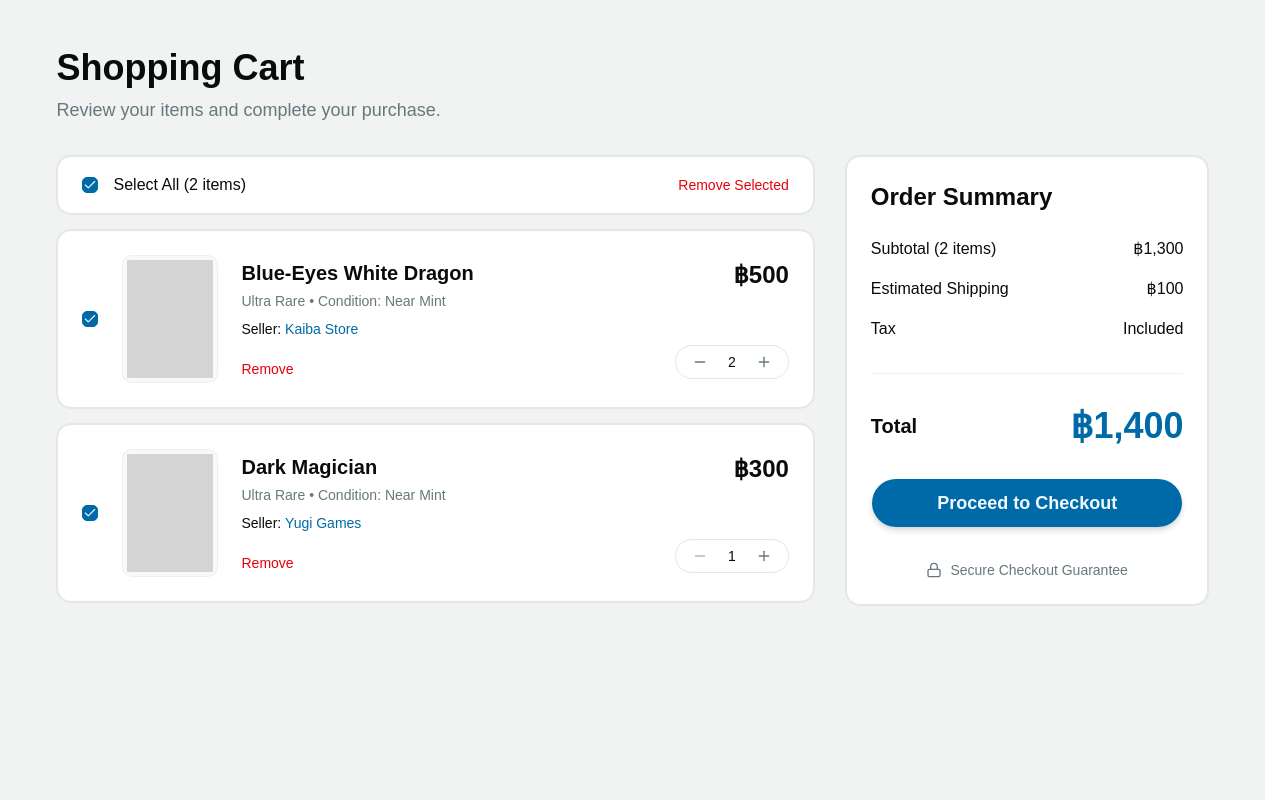
CartPage Integration Flow › removes an item when Remove button is clicked
The image size is (1280, 800).
expect the heading "Blue-Eyes White Dragon" is shown: met, box [242,262,474,284]
What coordinates should you click on to do the following:
click the button "Remove" below "Kaiba Store"
I would click on:
 (268, 369)
Its box is [242,359,294,379].
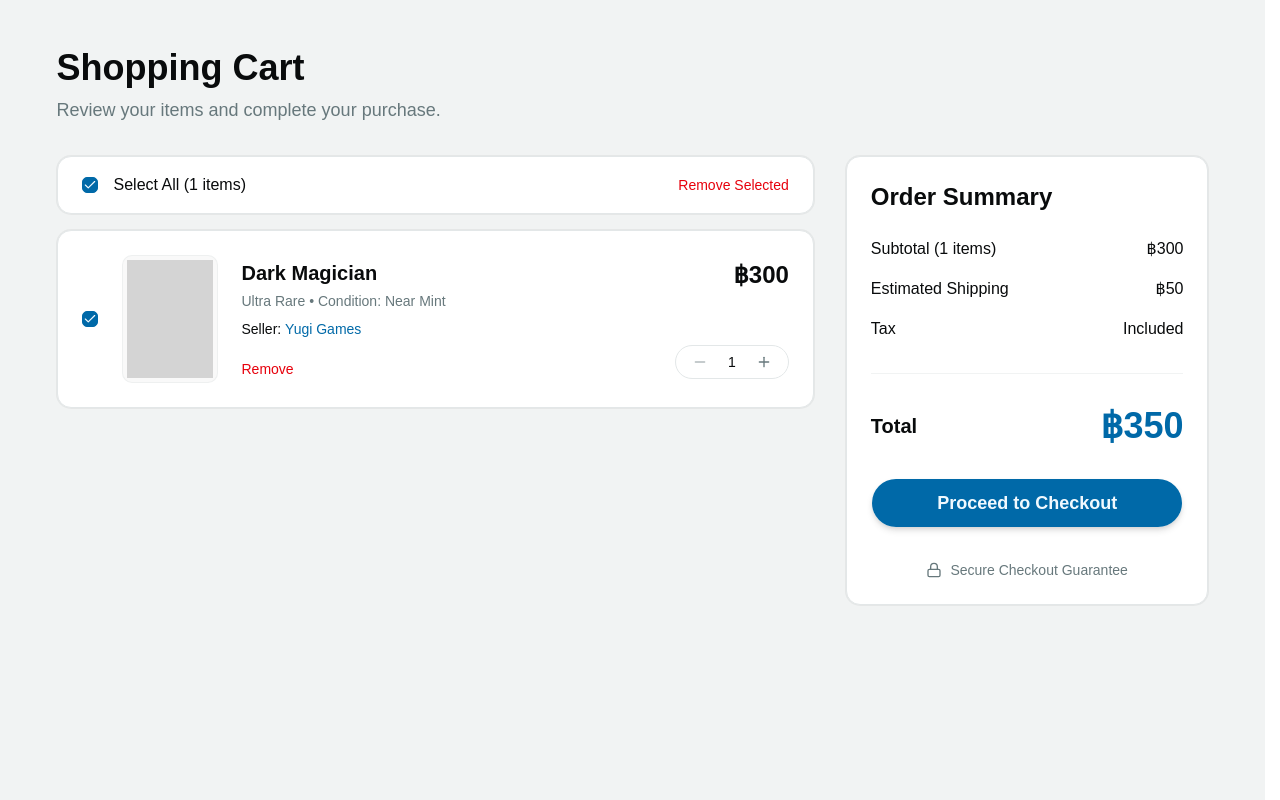
expect the heading "Dark Magician" is shown: met, box [242,262,377,284]
expect the heading "Blue-Eyes White Dragon" is gone: met
